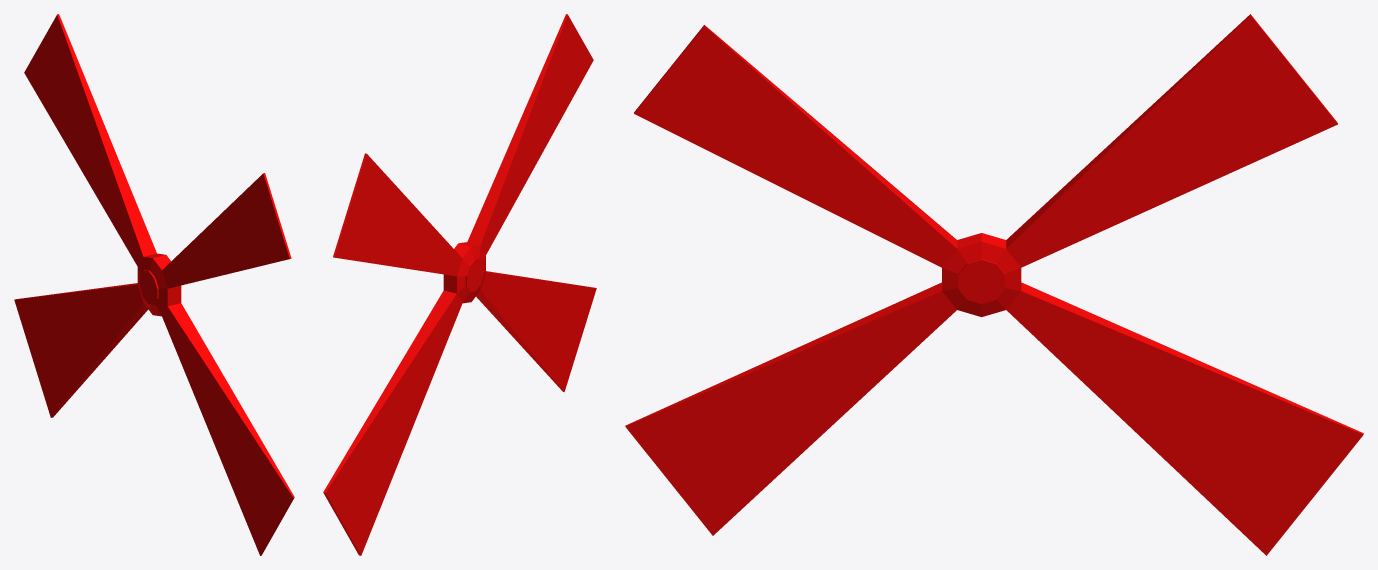
File: Fan.fbx
3 renders of one model, left to right at view 1: azimuth 30°, elevation 25°; view 2: azimuth 150°, elevation 25°; view 3: azimuth 270°, elevation 25°, orthographic. The views are drawn at different scales.
Parts seen in each view (by area): view 1: Fan; view 2: Fan; view 3: Fan.
Part boxes in pixels (left/top/right/bottom): Fan: left=14, top=14, right=294, bottom=555; Fan: left=323, top=14, right=596, bottom=555; Fan: left=625, top=14, right=1363, bottom=555.
Size of the model in its own units: 1.6 by 28.62 by 35.44.
